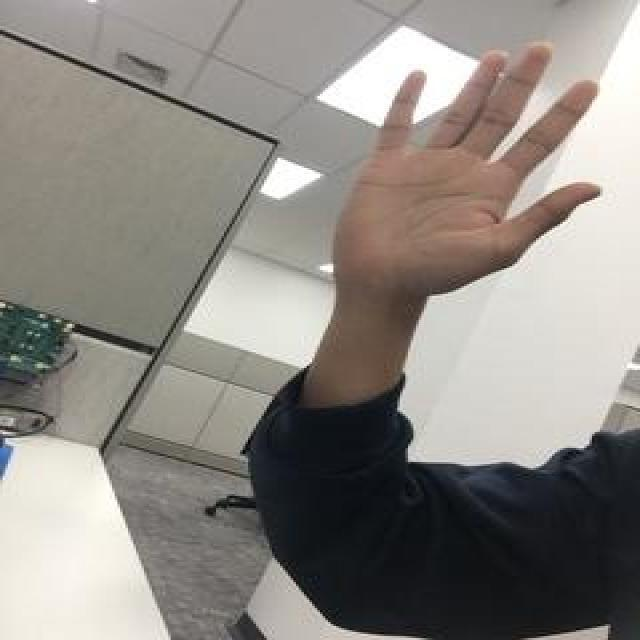no-gloves: (324, 38, 604, 292)
